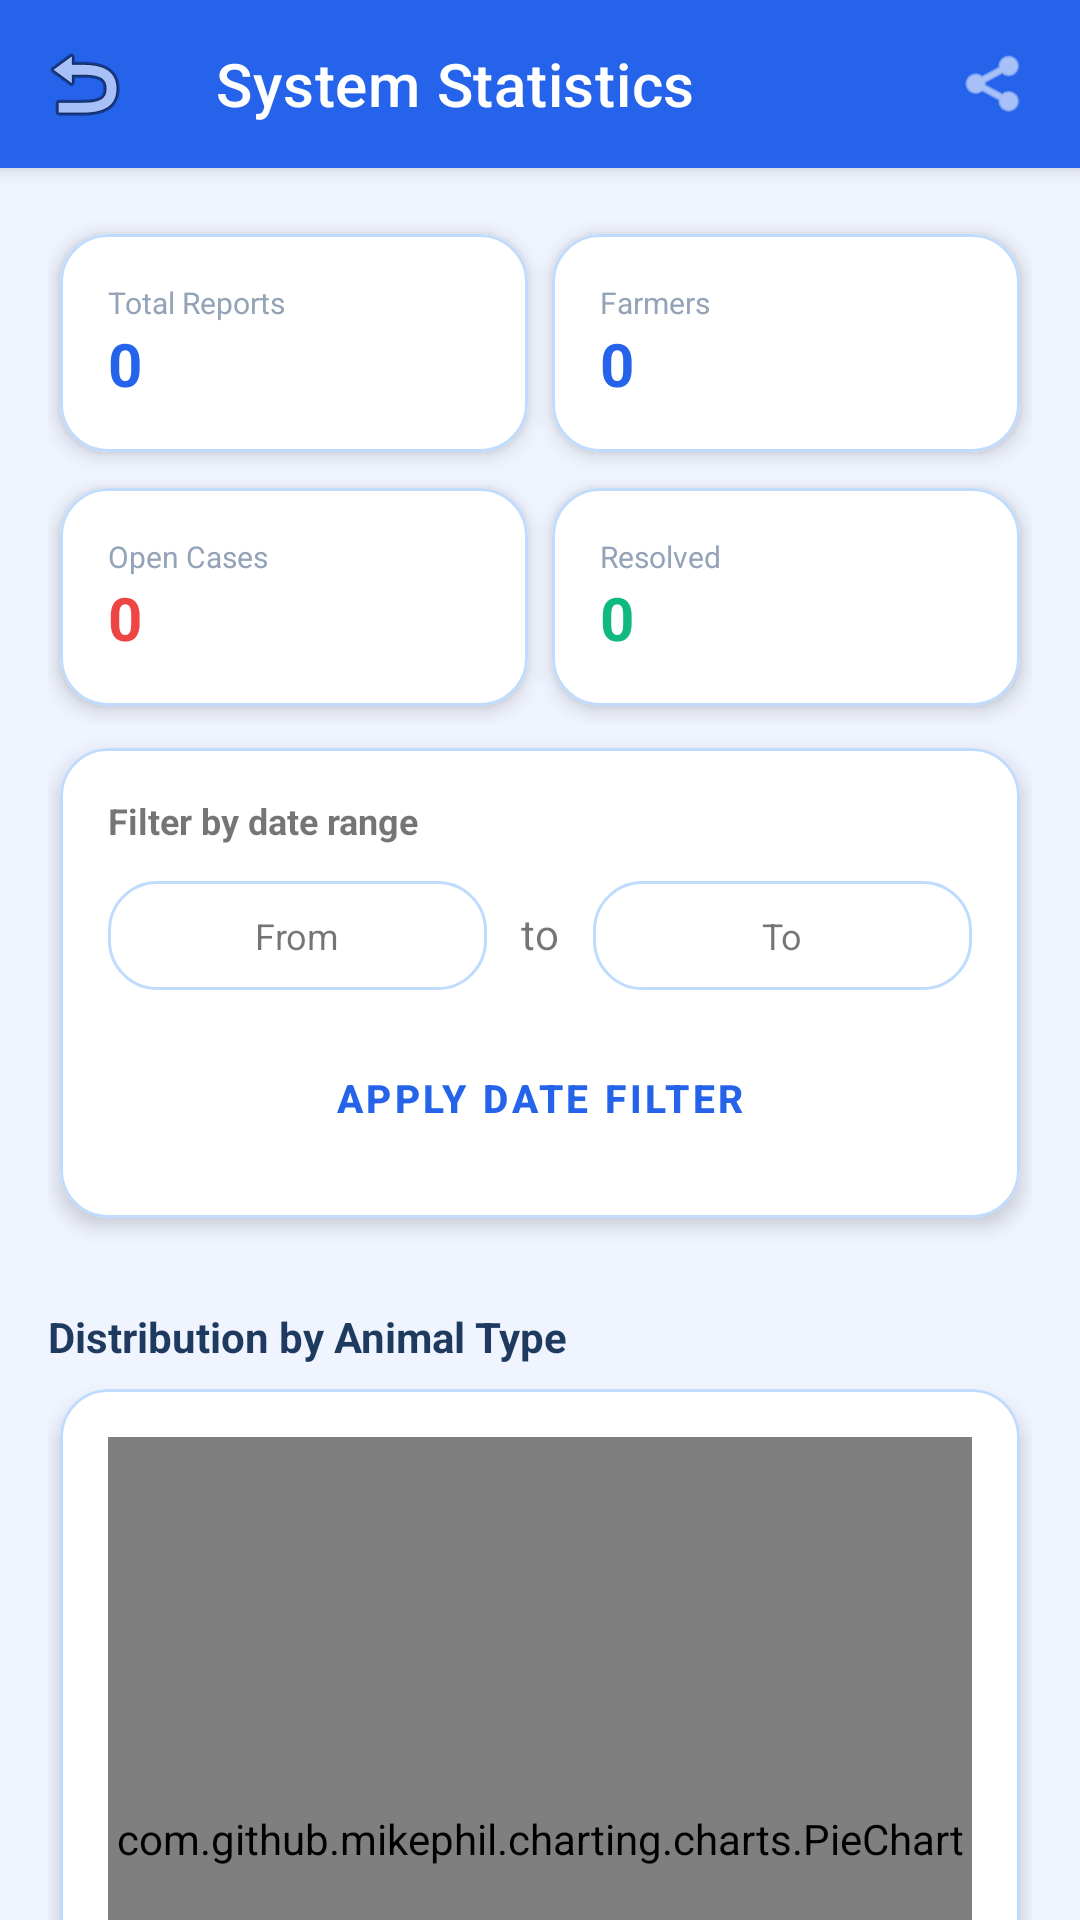

Named icons in this screenshot (1080×1920) and their centers, (x=x, y=y):
share: (x=992, y=83)
